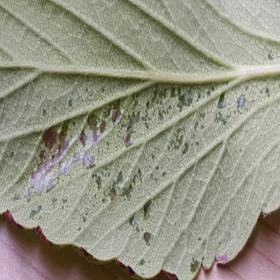Angular Leafspot: (0, 45, 279, 279)
